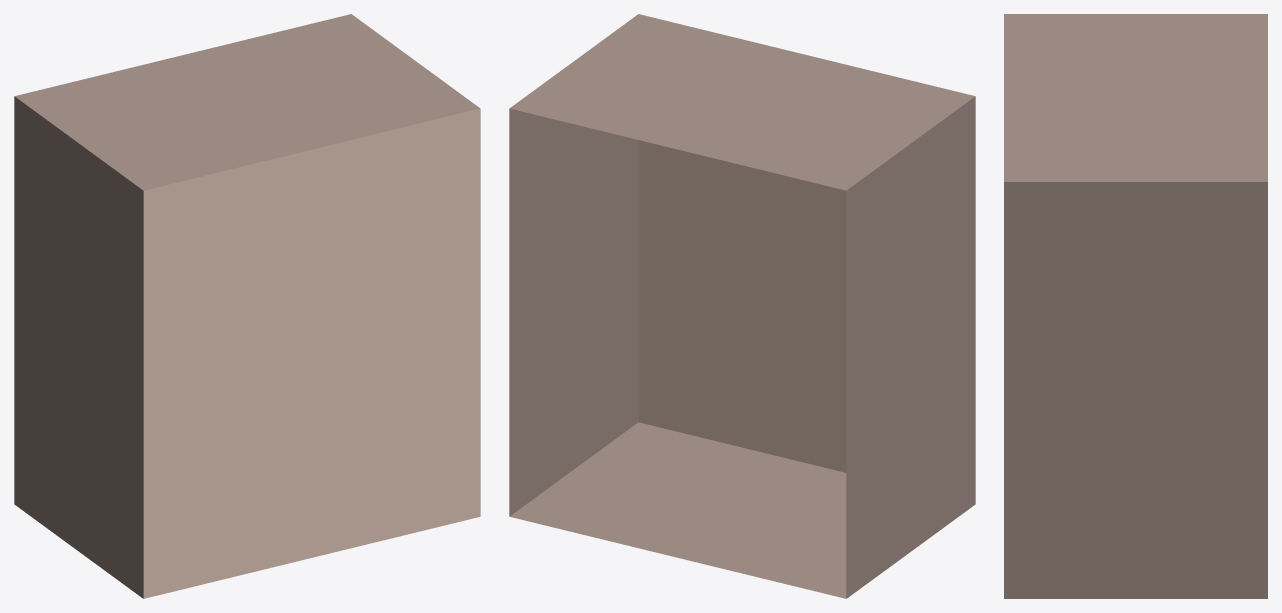
The model's file is E_building clad block2.fbx.
3 renders of one model, left to right at view 1: azimuth 30°, elevation 25°; view 2: azimuth 150°, elevation 25°; view 3: azimuth 270°, elevation 25°, orthographic. The views are drawn at different scales.
Visible parts, largest first — view 1: e_buildin_clad_block2; view 2: e_buildin_clad_block2; view 3: e_buildin_clad_block2.
Boxes of the visible parts, x1,y1,x2,y2 form: e_buildin_clad_block2: [14, 14, 480, 598]; e_buildin_clad_block2: [509, 14, 975, 598]; e_buildin_clad_block2: [1004, 14, 1267, 598].
Bounding box in the file's own units: 301 × 349 × 200.
